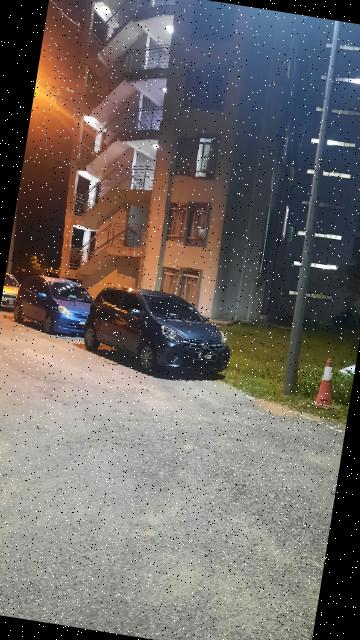License_Plate: (190, 347, 221, 366)
car: (79, 278, 252, 388)
